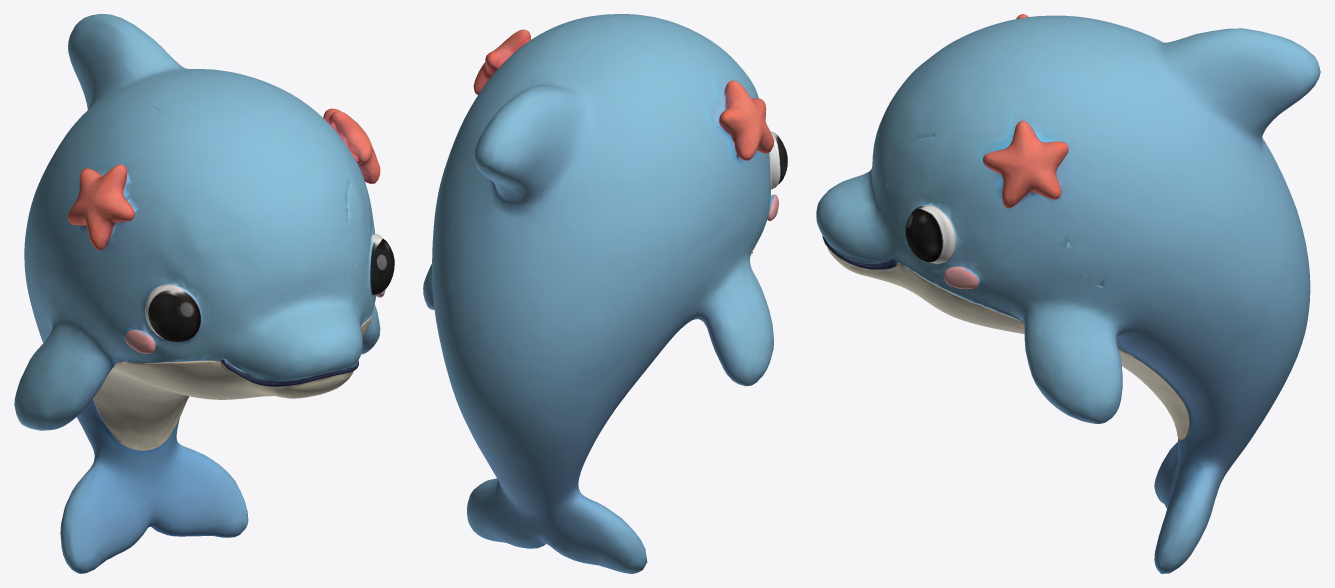
File: dolphin.glb
3 views of the same model, side by side, from view 1: azimuth 30°, elevation 25°; view 2: azimuth 150°, elevation 25°; view 3: azimuth 270°, elevation 25° (orthographic). The views are drawn at different scales.
Parts seen in each view (by area): view 1: tripo_node_2fe8046b-d0f1-46f2-9646-10889a2ad36d; view 2: tripo_node_2fe8046b-d0f1-46f2-9646-10889a2ad36d; view 3: tripo_node_2fe8046b-d0f1-46f2-9646-10889a2ad36d.
Part boxes in pixels (x1=…): tripo_node_2fe8046b-d0f1-46f2-9646-10889a2ad36d: x1=14, y1=14, x2=394, y2=573; tripo_node_2fe8046b-d0f1-46f2-9646-10889a2ad36d: x1=423, y1=14, x2=787, y2=573; tripo_node_2fe8046b-d0f1-46f2-9646-10889a2ad36d: x1=816, y1=14, x2=1320, y2=573.
Bounding box in the file's own units: 0.7107 × 0.9792 × 0.885.
1 material, 1 textured.
